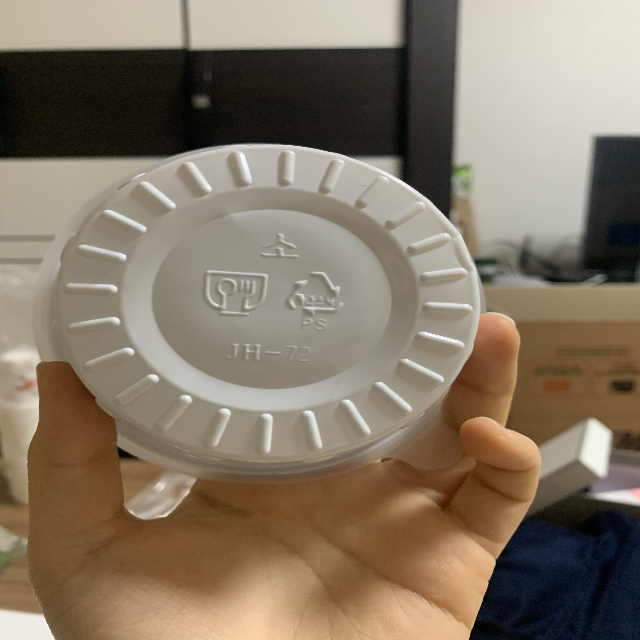ps: (283, 265, 348, 330)
